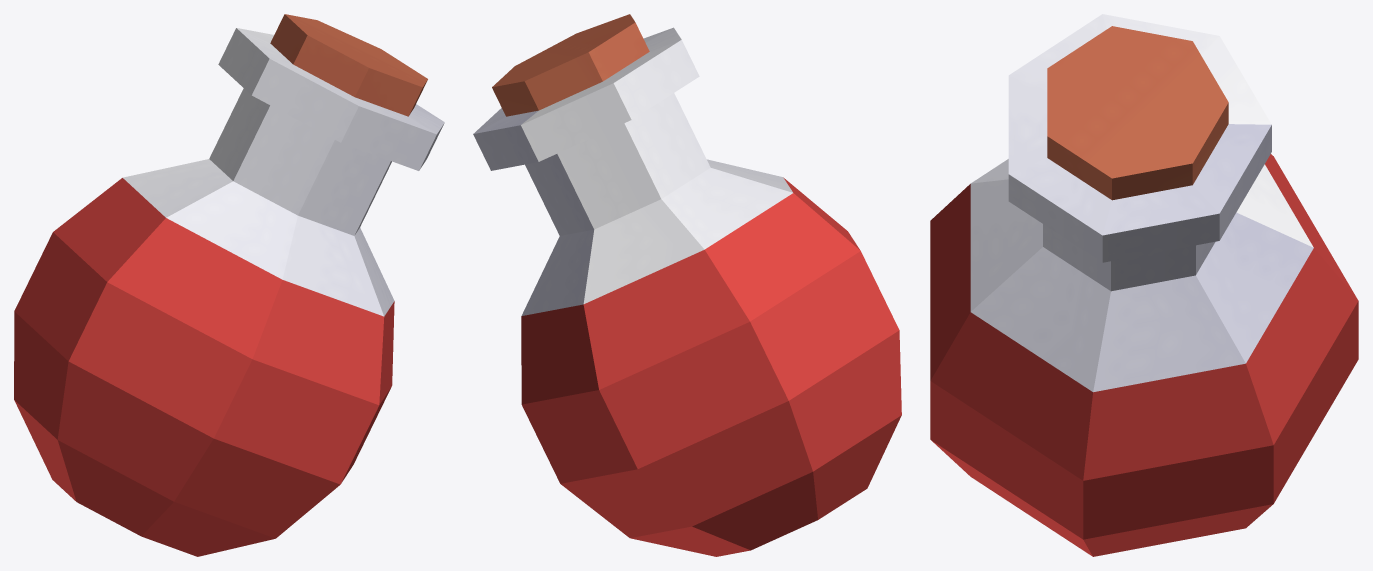
The model's file is potion.glb.
3 views of the same model, side by side, from view 1: azimuth 30°, elevation 25°; view 2: azimuth 150°, elevation 25°; view 3: azimuth 270°, elevation 25° (orthographic). The views are drawn at different scales.
Visible parts, largest first — view 1: Potion; view 2: Potion; view 3: Potion.
Part boxes in pixels (x1=…): Potion: x1=14, y1=14, x2=444, y2=556; Potion: x1=473, y1=14, x2=901, y2=556; Potion: x1=930, y1=14, x2=1358, y2=556.
Size of the model in its own units: 0.3812 by 0.4534 by 0.3128.
1 material, 1 textured.
